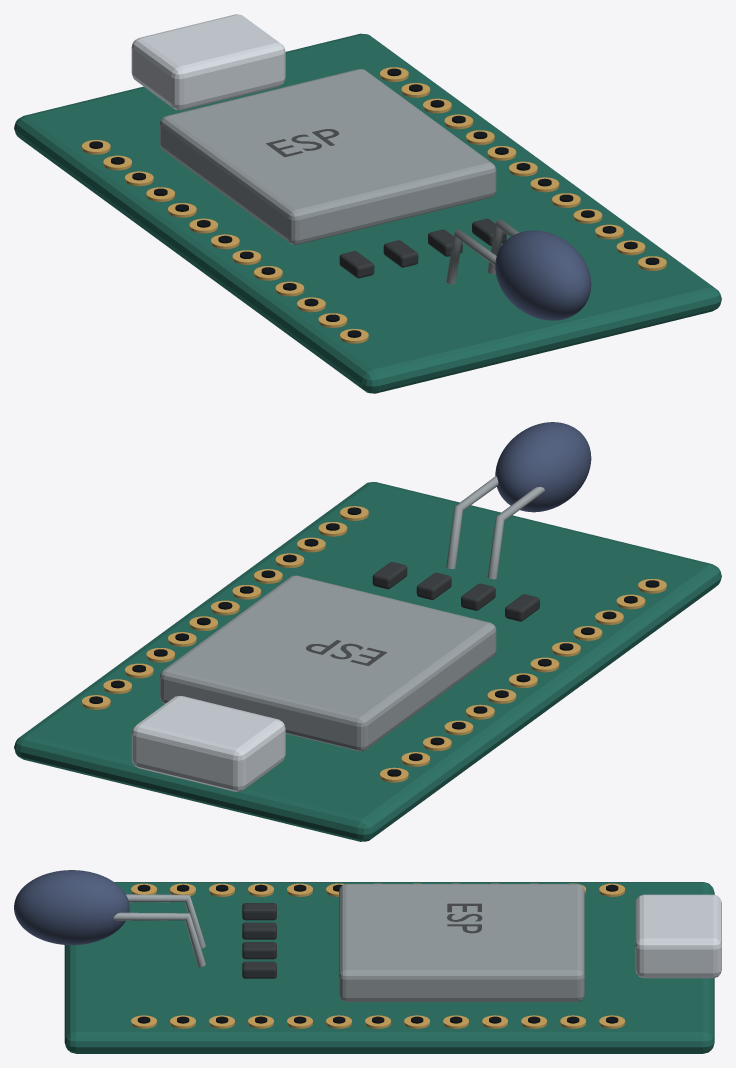
The model's file is TasmotaIR.glb.
3 renders of one model, top to bottom at view 1: azimuth 30°, elevation 25°; view 2: azimuth 150°, elevation 25°; view 3: azimuth 270°, elevation 25°, orthographic. The views are drawn at different scales.
Visible parts, largest first — view 1: Tasmota IR · enclosure and fittings; view 2: Tasmota IR · enclosure and fittings; view 3: Tasmota IR · enclosure and fittings.
Part boxes in pixels (x1,y1,x2,y2): Tasmota IR · enclosure and fittings: (14,14,721,393); Tasmota IR · enclosure and fittings: (14,422,721,841); Tasmota IR · enclosure and fittings: (14,870,721,1053).
Bounding box in the file's own units: 0.026 × 0.008 × 0.049.
